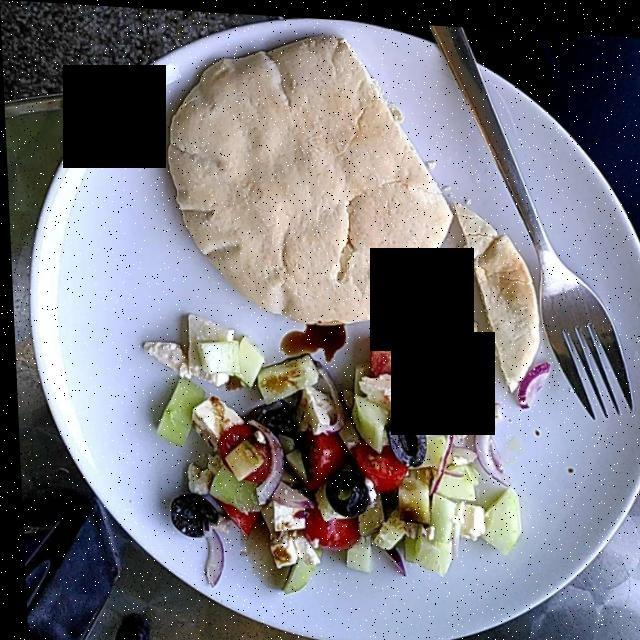bread: (172, 46, 449, 320)
salad: (142, 310, 541, 598)
